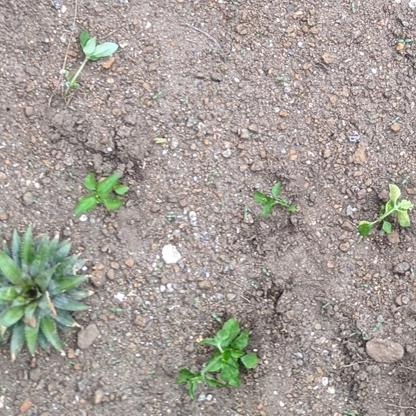pineapple: (3, 224, 95, 362)
weed: (177, 316, 266, 394), (46, 28, 120, 103), (359, 179, 415, 247), (73, 174, 110, 222), (250, 177, 294, 216)
